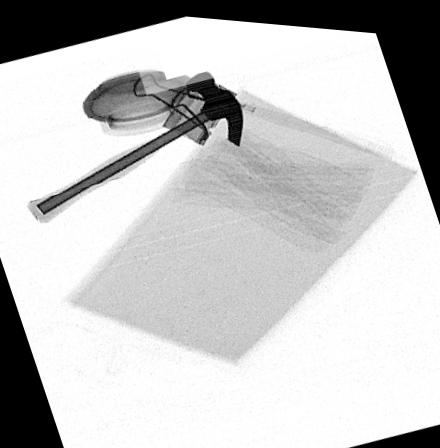Hammer: (24, 66, 243, 222)
